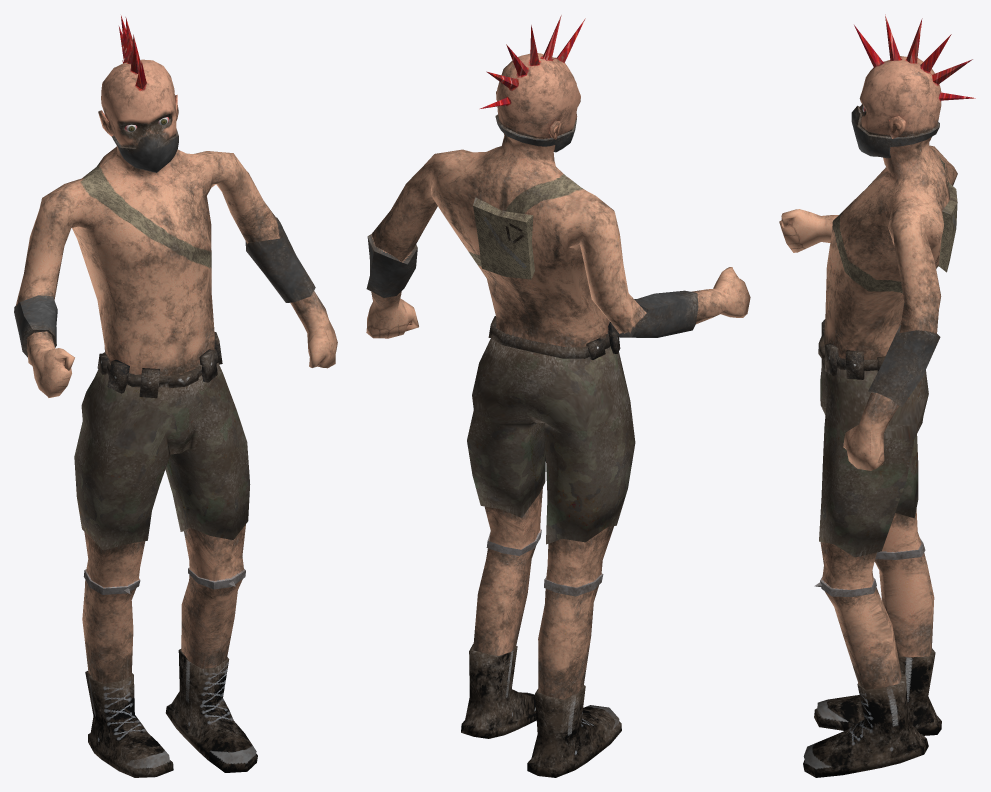
Rendered from Anim_perder_1_npc2.0020.obj.
3 renders of one model, left to right at view 1: azimuth 30°, elevation 25°; view 2: azimuth 150°, elevation 25°; view 3: azimuth 270°, elevation 25°, orthographic. The views are drawn at different scales.
Visible parts, largest first — view 1: polySurface1; view 2: polySurface1; view 3: polySurface1.
Boxes of the visible parts, left/top/right/bottom form: polySurface1: left=14, top=15, right=337, bottom=777; polySurface1: left=366, top=15, right=750, bottom=777; polySurface1: left=779, top=14, right=975, bottom=777.
Size of the model in its own units: 4.87 by 10.15 by 2.52.
Materials: 2 (2 with a texture image).
